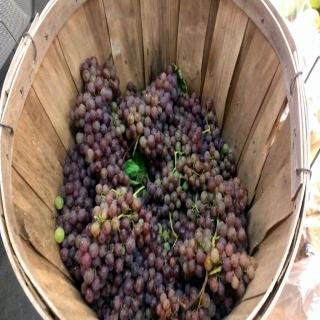Grape: (55, 55, 256, 320)
